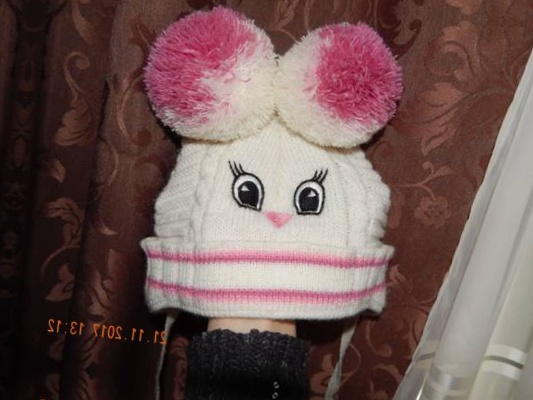Hat: (104, 0, 464, 357), (141, 0, 501, 14)
